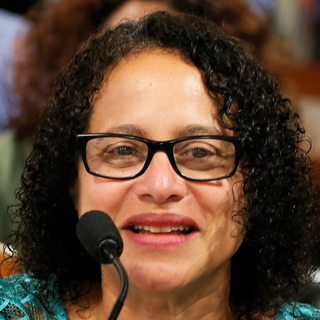eye: (176, 141, 223, 166), (101, 141, 144, 163)
